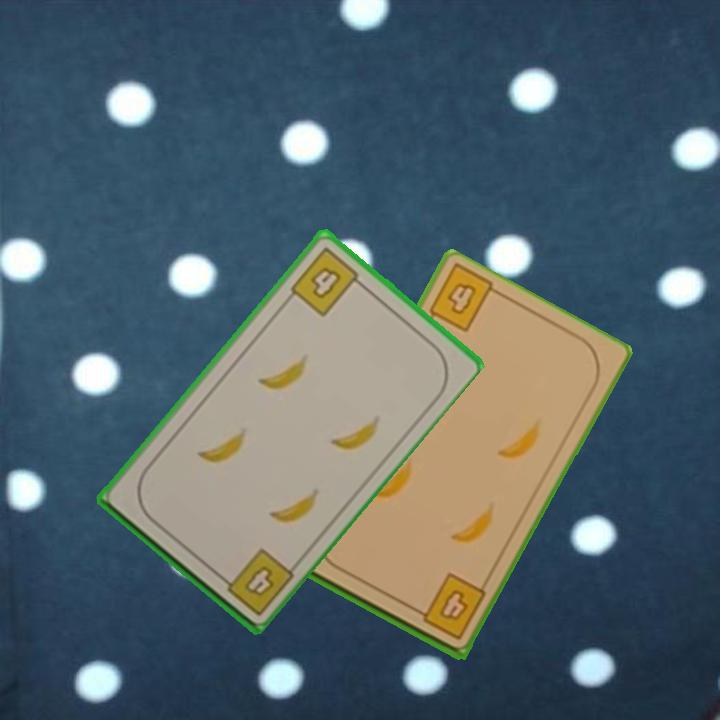4b: (286, 243, 368, 320), (214, 543, 296, 619), (408, 570, 489, 643), (443, 278, 480, 318)
